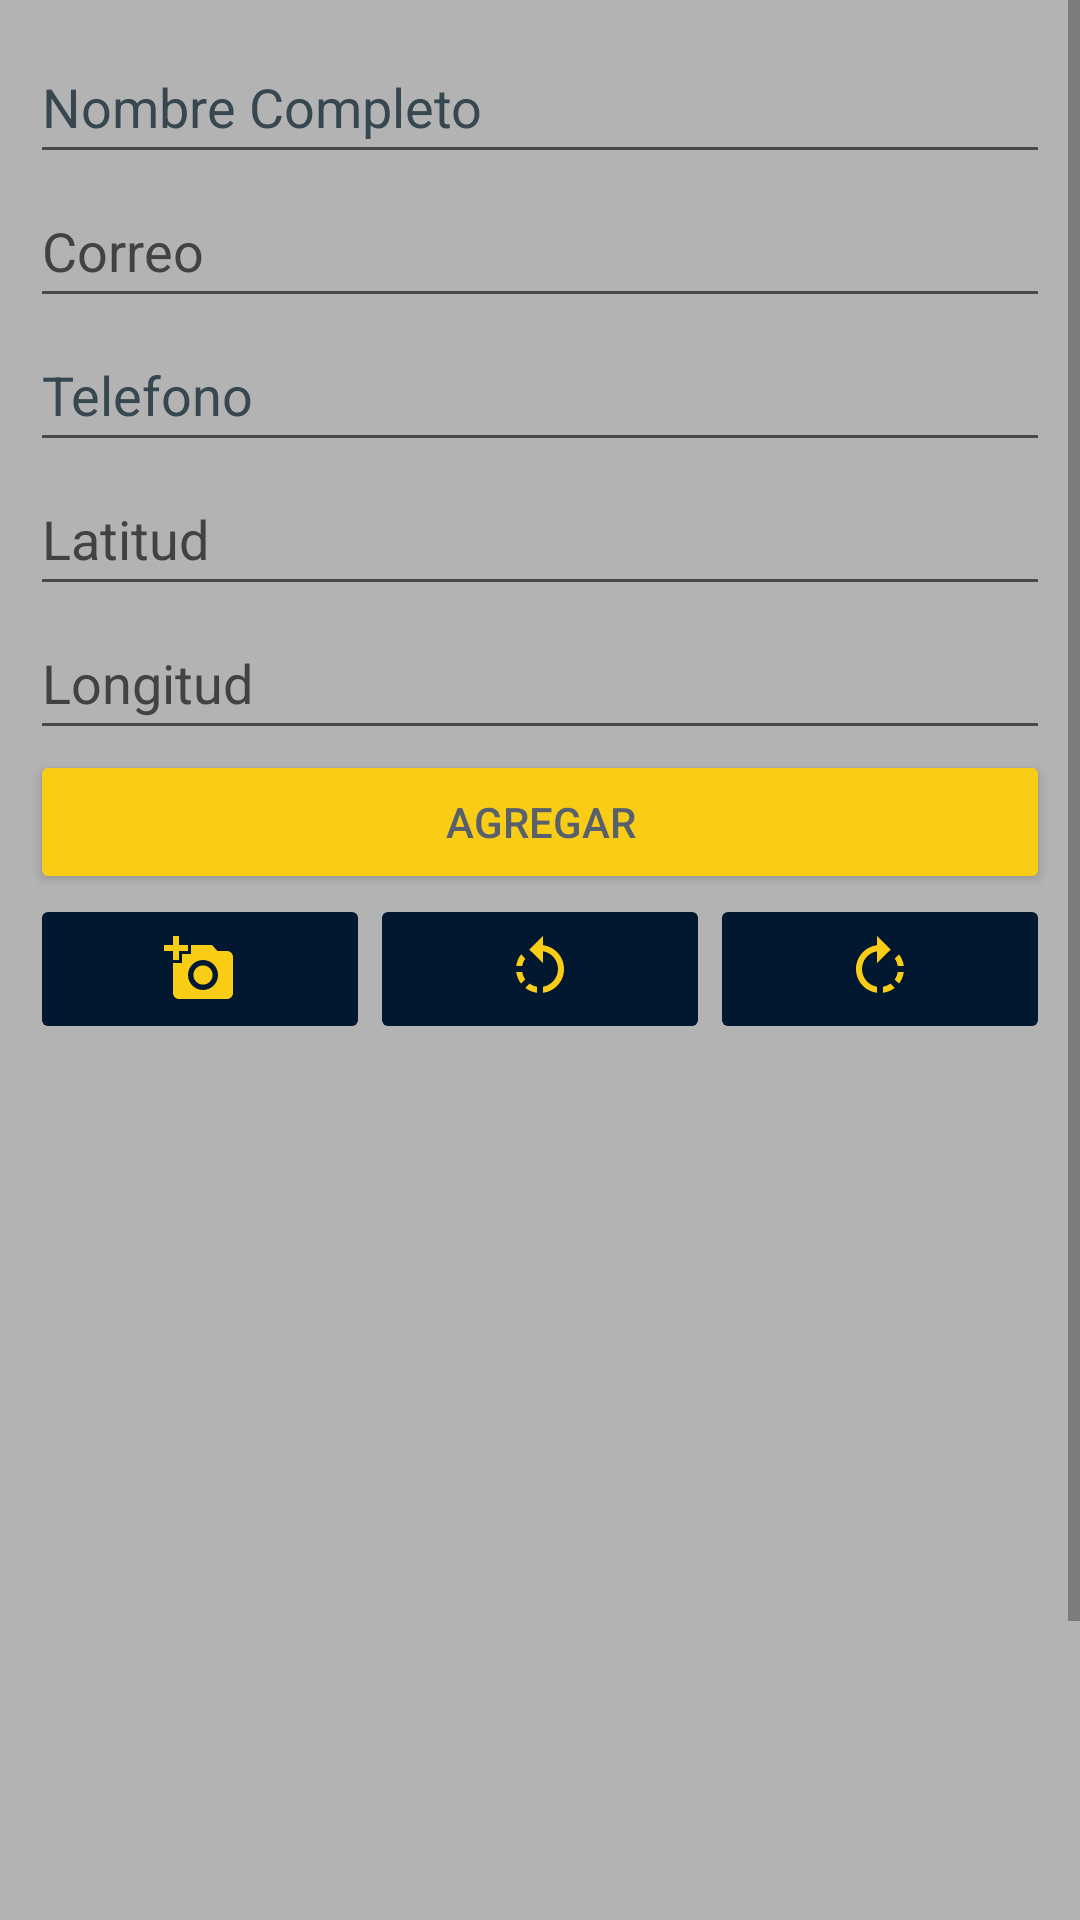

Named icons in this screenshot (1080px×1920px) and their centers, [x,y]:
photo: [200,969]
rotate: [540,969], [880,969]
